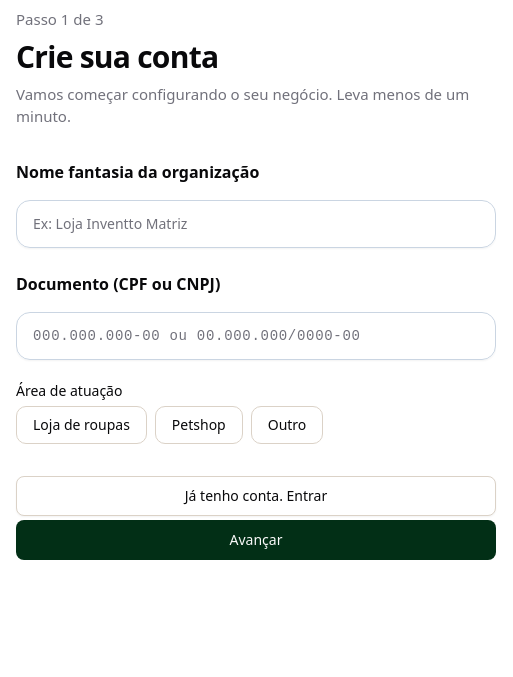
SignUpForm Feature › Integration Tests (UI Flow) › should validate Step 1 and prevent navigation if empty
This screenshot has width=513, height=677.
Click the button "Avançar" at (256, 540), box 16,520 -> 496,560
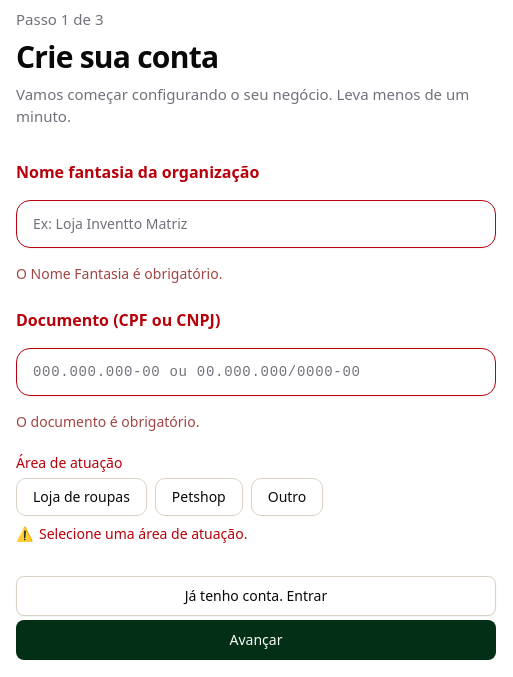
Check: the text "O Nome Fantasia é obrigatório." is shown, box 16,264 -> 222,282
